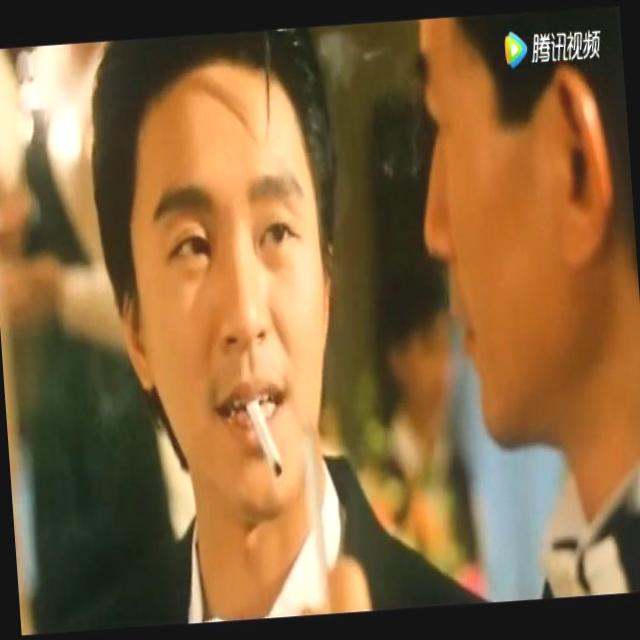smoke: (236, 370, 286, 496)
